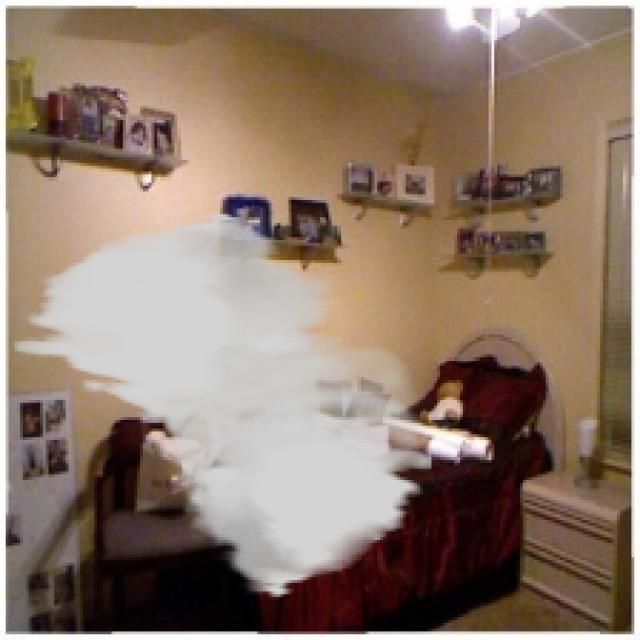Smoke: (14, 211, 434, 600)
